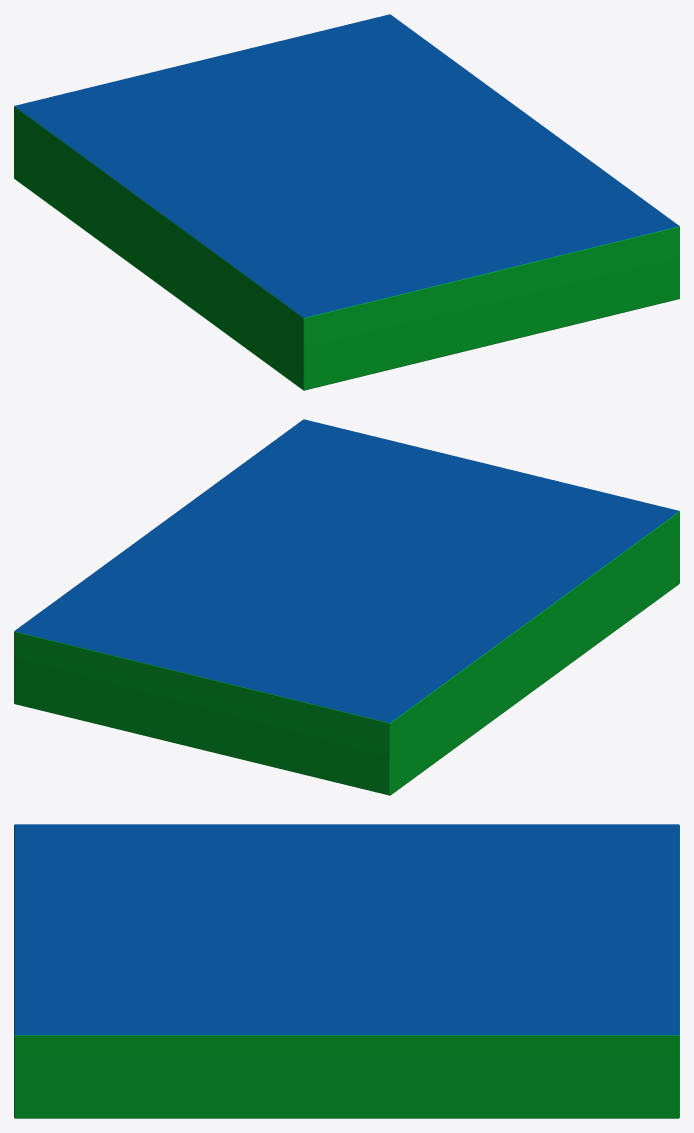
Rendered from SM_sheets_4.fbx.
The picture shows the model from 3 angles, top to bottom: view 1: azimuth 30°, elevation 25°; view 2: azimuth 150°, elevation 25°; view 3: azimuth 270°, elevation 25°; orthographic projection. The views are drawn at different scales.
Visible parts, largest first — view 1: SM_sheets_4; view 2: SM_sheets_4; view 3: SM_sheets_4.
Boxes of the visible parts, x1,y1,x2,y2 form: SM_sheets_4: (14, 14, 679, 390); SM_sheets_4: (14, 419, 679, 795); SM_sheets_4: (14, 824, 679, 1118).
Size of the model in its own units: 0.54 by 0.1004 by 0.72.
